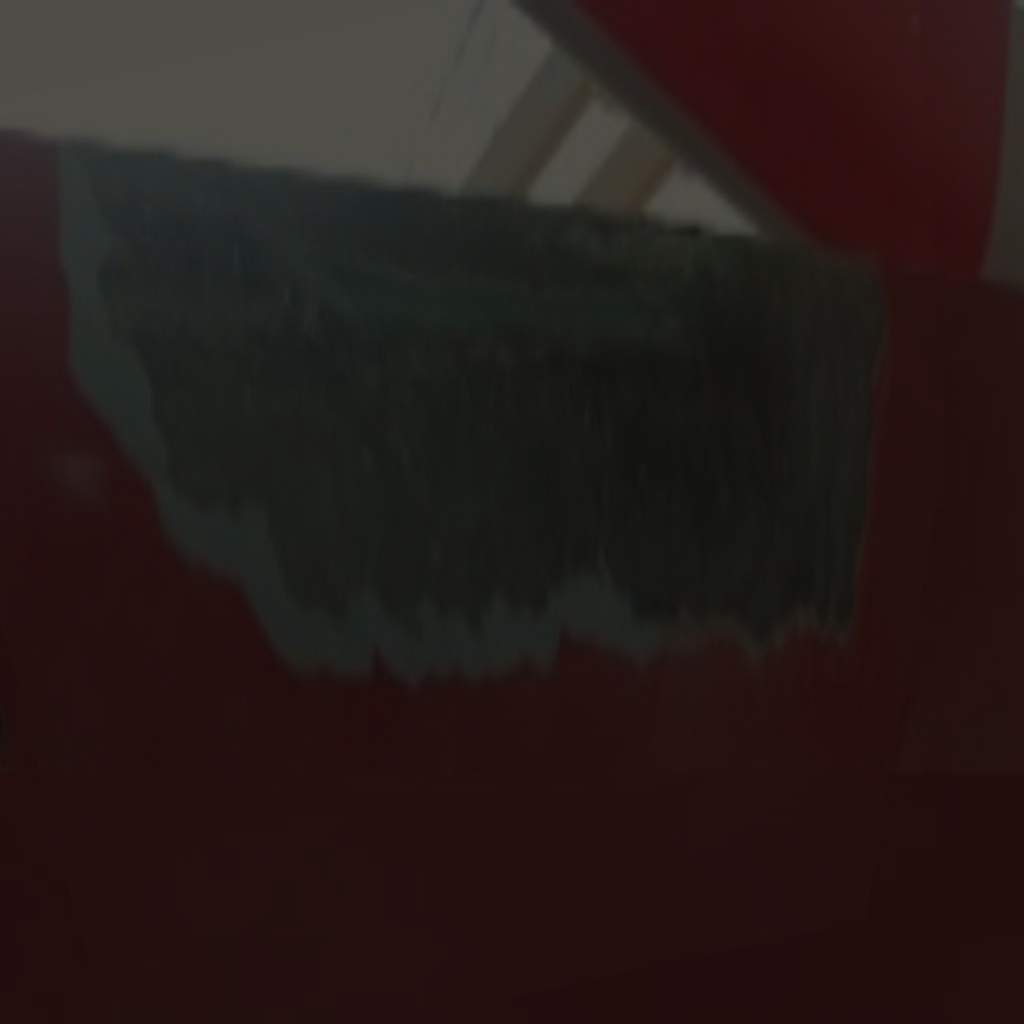surface_injure: (40, 144, 888, 674)
